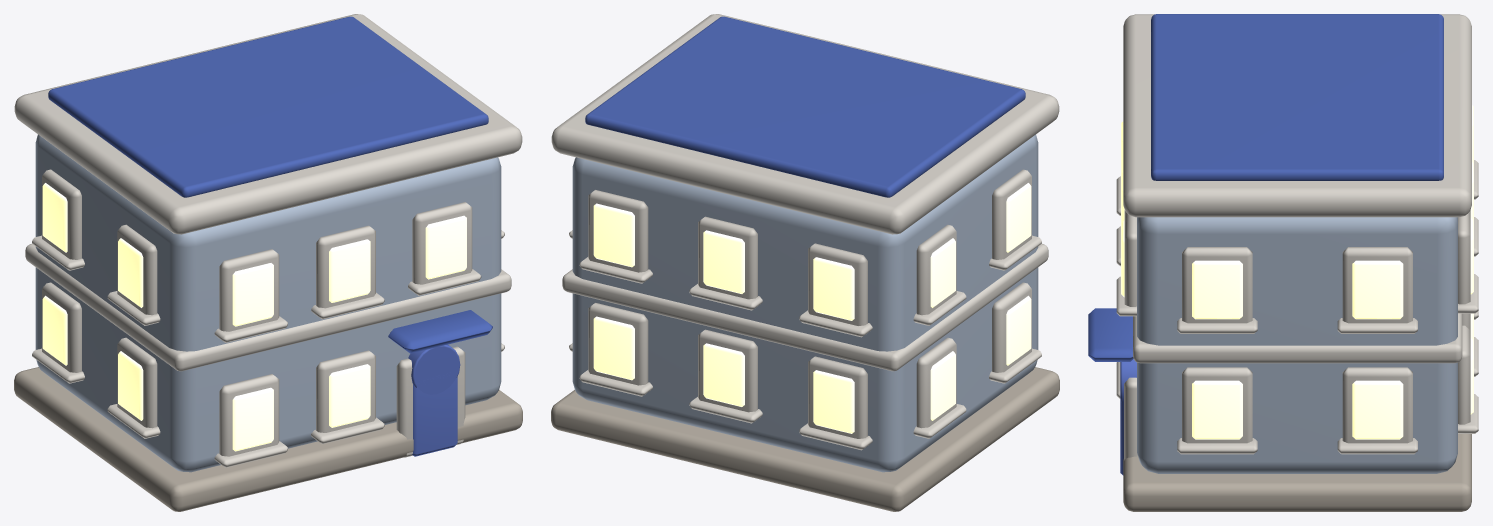
3 renders of one model, left to right at view 1: azimuth 30°, elevation 25°; view 2: azimuth 150°, elevation 25°; view 3: azimuth 270°, elevation 25°, orthographic. The views are drawn at different scales.
Visible parts, largest first — view 1: Cube; view 2: Cube; view 3: Cube.
Part boxes in pixels (<box>): Cube: <box>14,14,522,511</box>; Cube: <box>551,14,1059,511</box>; Cube: <box>1088,14,1478,511</box>.
Size of the model in its own units: 0.639 by 0.5255 by 0.5595.
